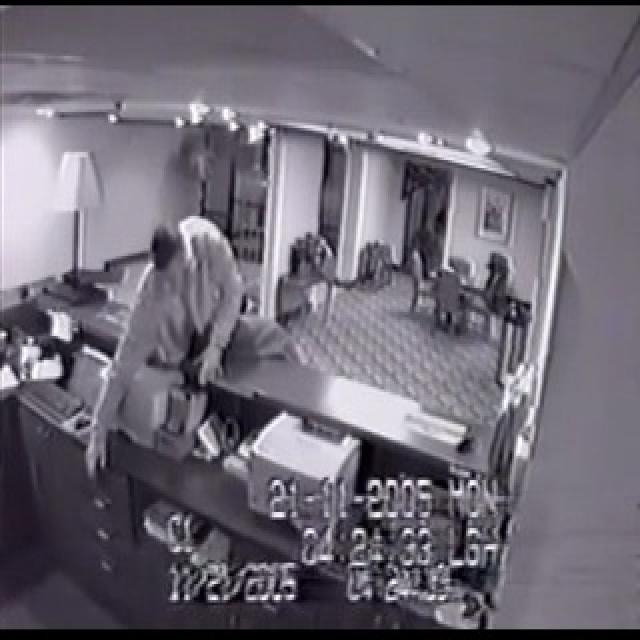thief: (67, 198, 319, 506)
